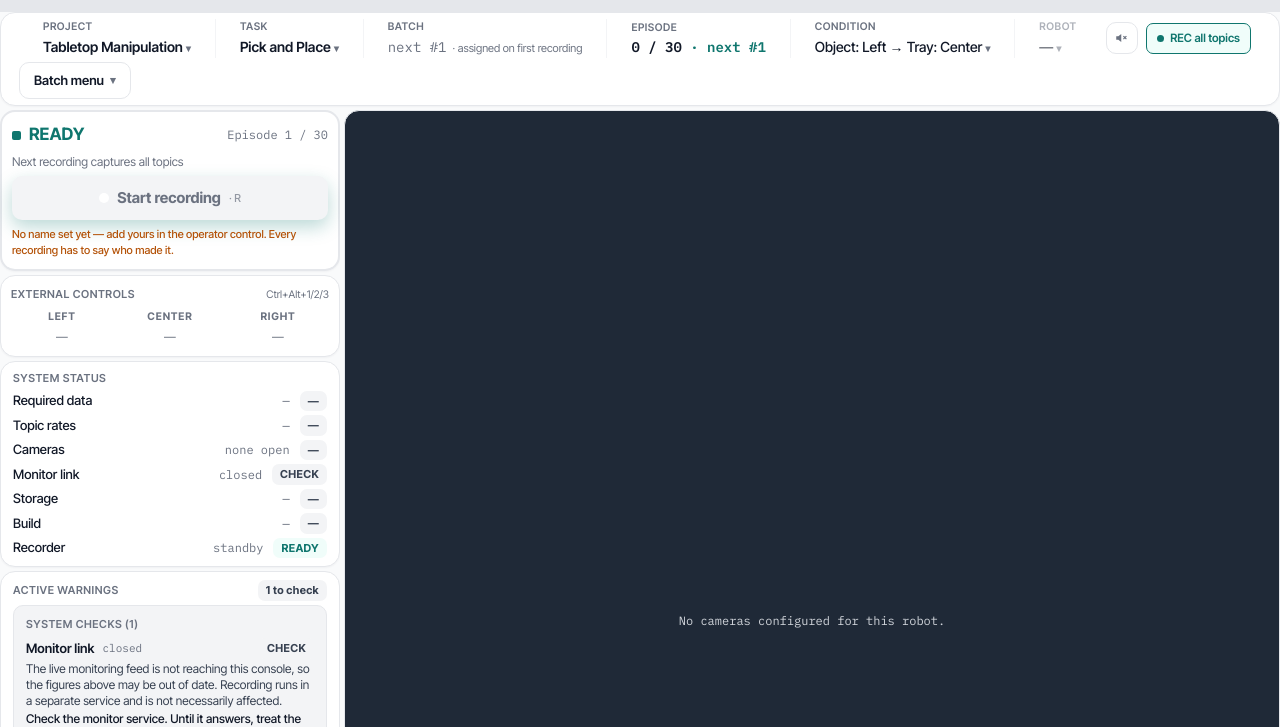
Scenario: the context-bar popovers keep BOTH their mobile and desktop anchors
The image size is (1280, 727).
Expected: the button with test id "rec-topics-chip" is shown, [1146,23,1251,54]
Click the button titled "Change project (from plan)" at (117, 38), box [19,15,215,62]
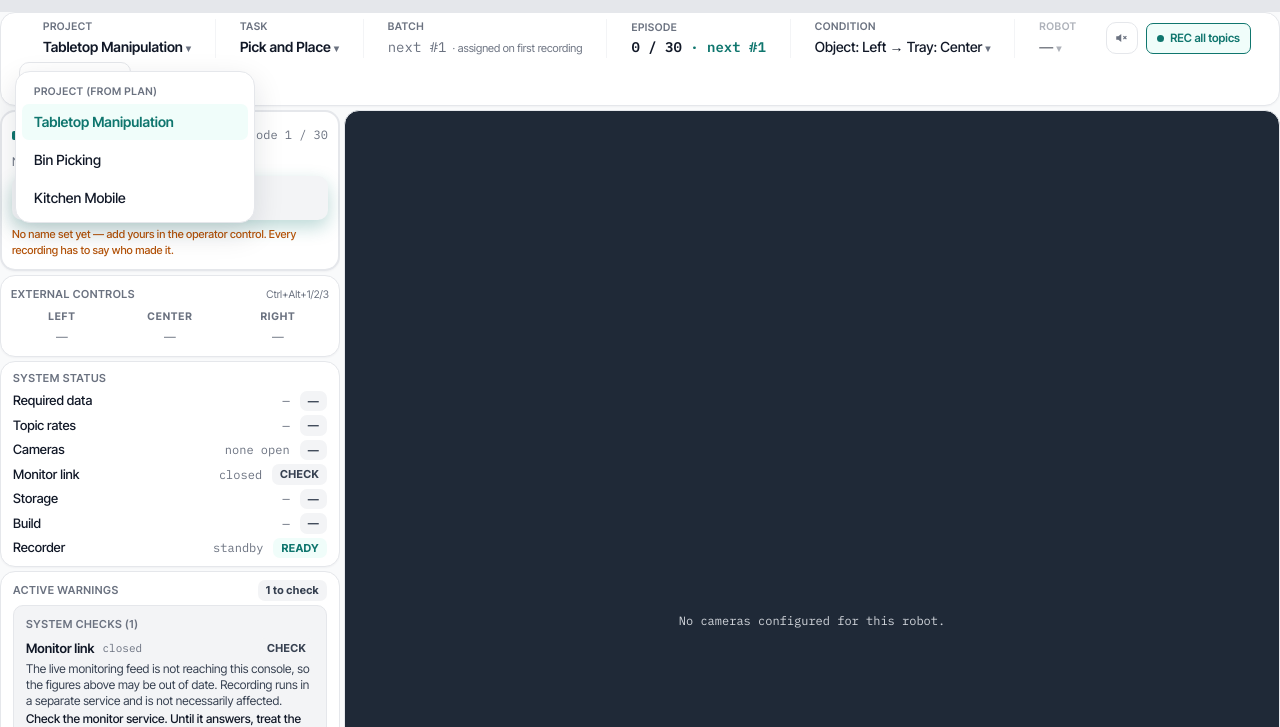
Now the element with class "z-40" is shown, box [15,71,255,223]
Click the button titled "Change project (from plan)" at (117, 38), box [19,15,215,62]
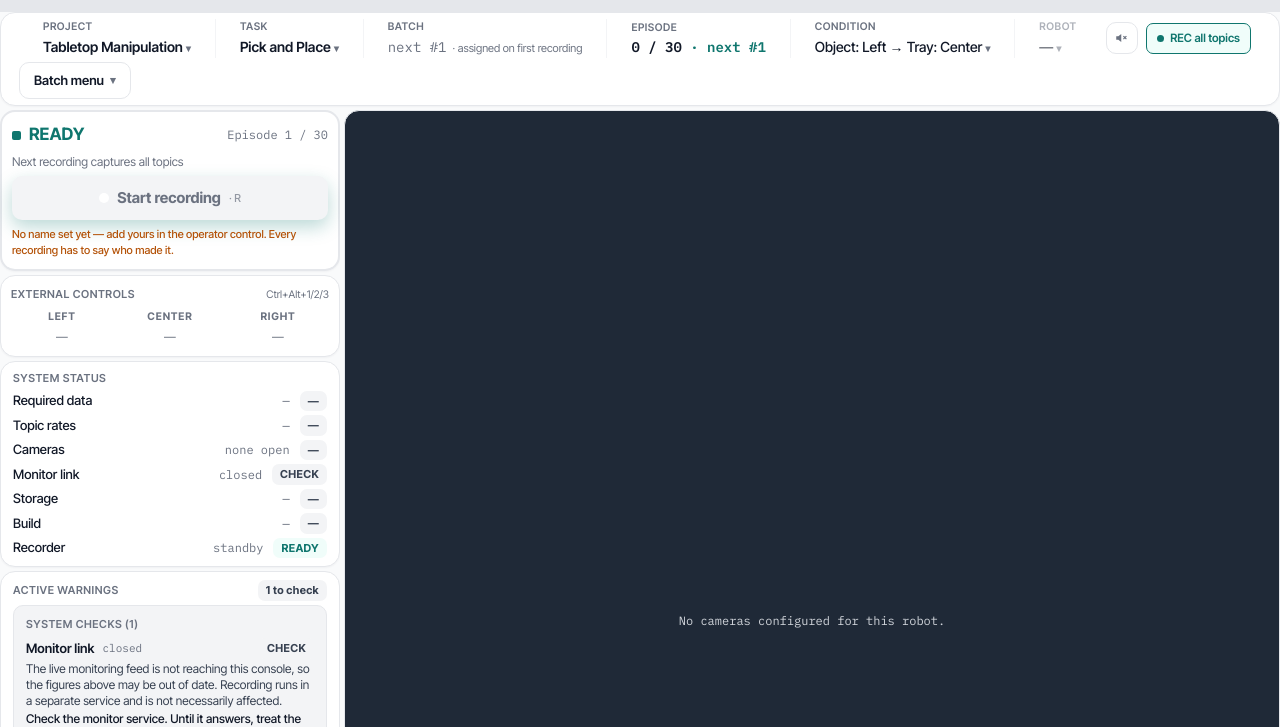
Click the button titled "Change task (from plan)" at (289, 38), box [216,15,363,62]
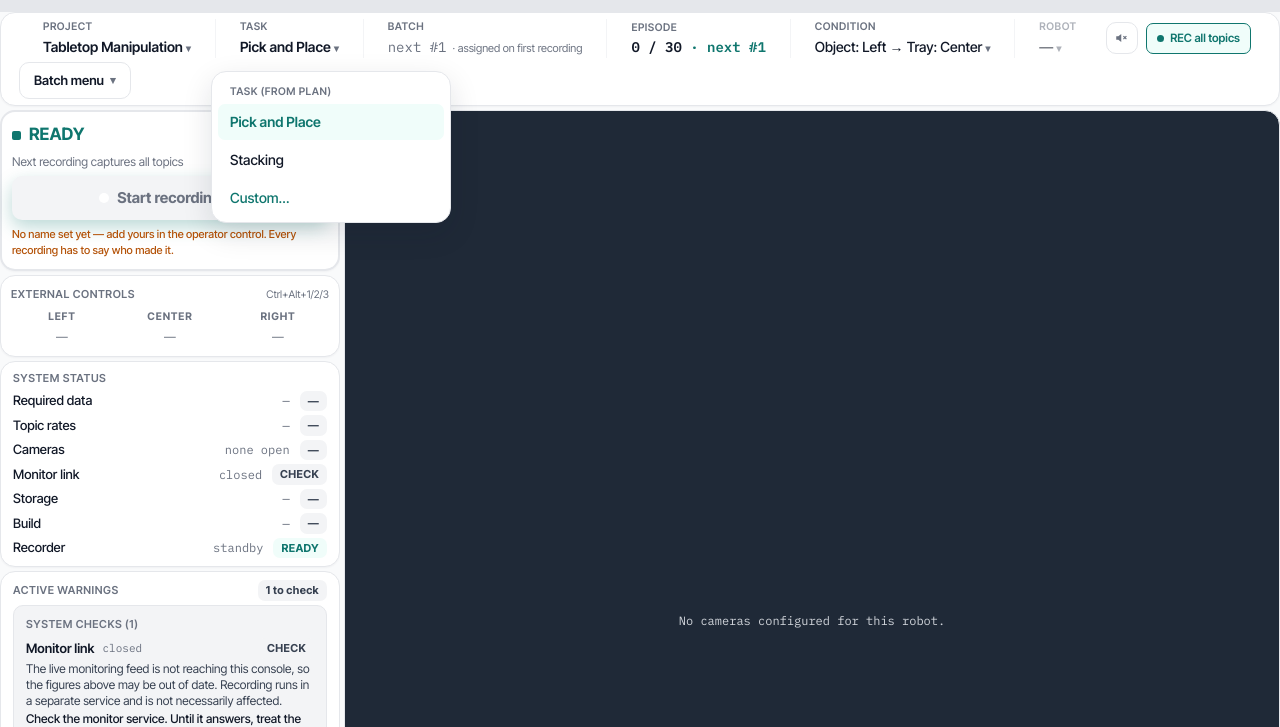
Now the element with class "z-40" is shown, box [211,71,451,223]
